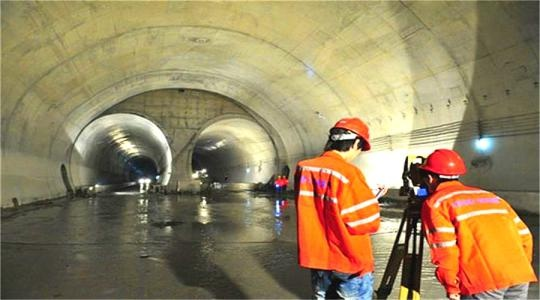red: (420, 148, 467, 192), (329, 118, 369, 158)
